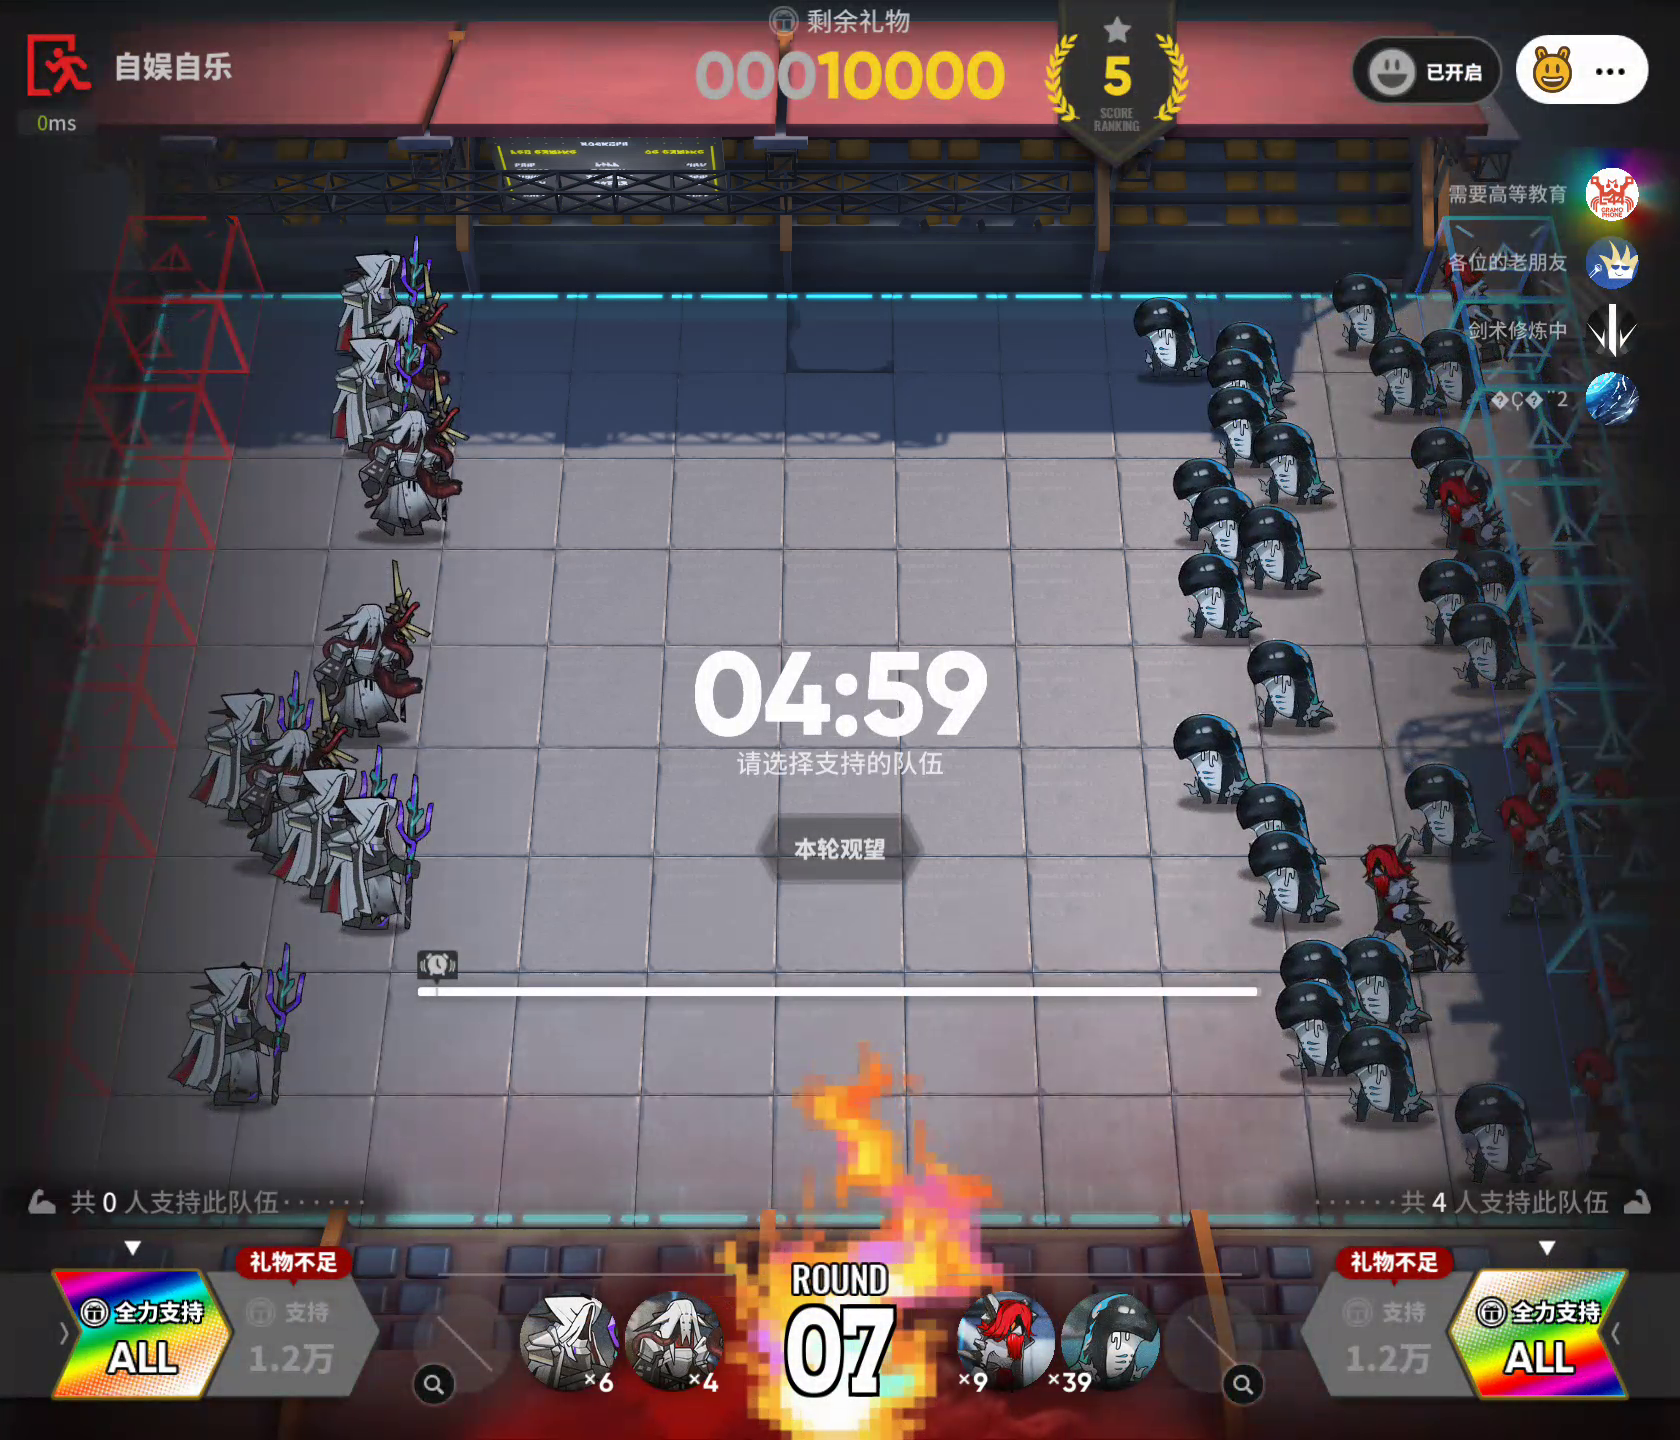凋零萨卡兹: (191, 653, 327, 836), (174, 939, 309, 1113), (317, 769, 441, 941), (271, 744, 403, 899), (326, 316, 431, 459), (326, 243, 441, 361), (517, 1290, 621, 1390)
清醒的墨魉: (1269, 974, 1371, 1087), (1330, 1024, 1436, 1129), (1060, 1287, 1164, 1391), (1451, 1081, 1559, 1181), (1249, 826, 1344, 931), (1341, 931, 1439, 1033), (1171, 710, 1270, 809), (1276, 936, 1383, 1026), (1246, 636, 1341, 731), (1401, 759, 1497, 850), (1461, 547, 1561, 634), (1249, 419, 1341, 511), (1236, 780, 1329, 870), (1173, 551, 1264, 640), (1329, 269, 1419, 357), (1239, 506, 1323, 600), (1131, 293, 1216, 386), (1410, 320, 1493, 411), (1209, 320, 1294, 407), (1173, 450, 1247, 546), (1199, 346, 1287, 426), (1191, 479, 1270, 569), (1401, 426, 1484, 510), (1371, 331, 1444, 419), (1413, 553, 1486, 636), (1211, 386, 1280, 473), (1429, 454, 1506, 521)
源石的腿脚: (1351, 829, 1471, 971), (1494, 794, 1601, 926), (1561, 1046, 1663, 1181), (954, 1286, 1059, 1389), (1439, 249, 1527, 367), (1507, 721, 1599, 830), (1574, 957, 1669, 1051), (1596, 751, 1680, 854), (1439, 469, 1524, 564)
重生术师: (311, 557, 439, 741), (239, 680, 354, 866), (354, 369, 463, 543), (621, 1286, 726, 1394), (369, 261, 454, 374)
